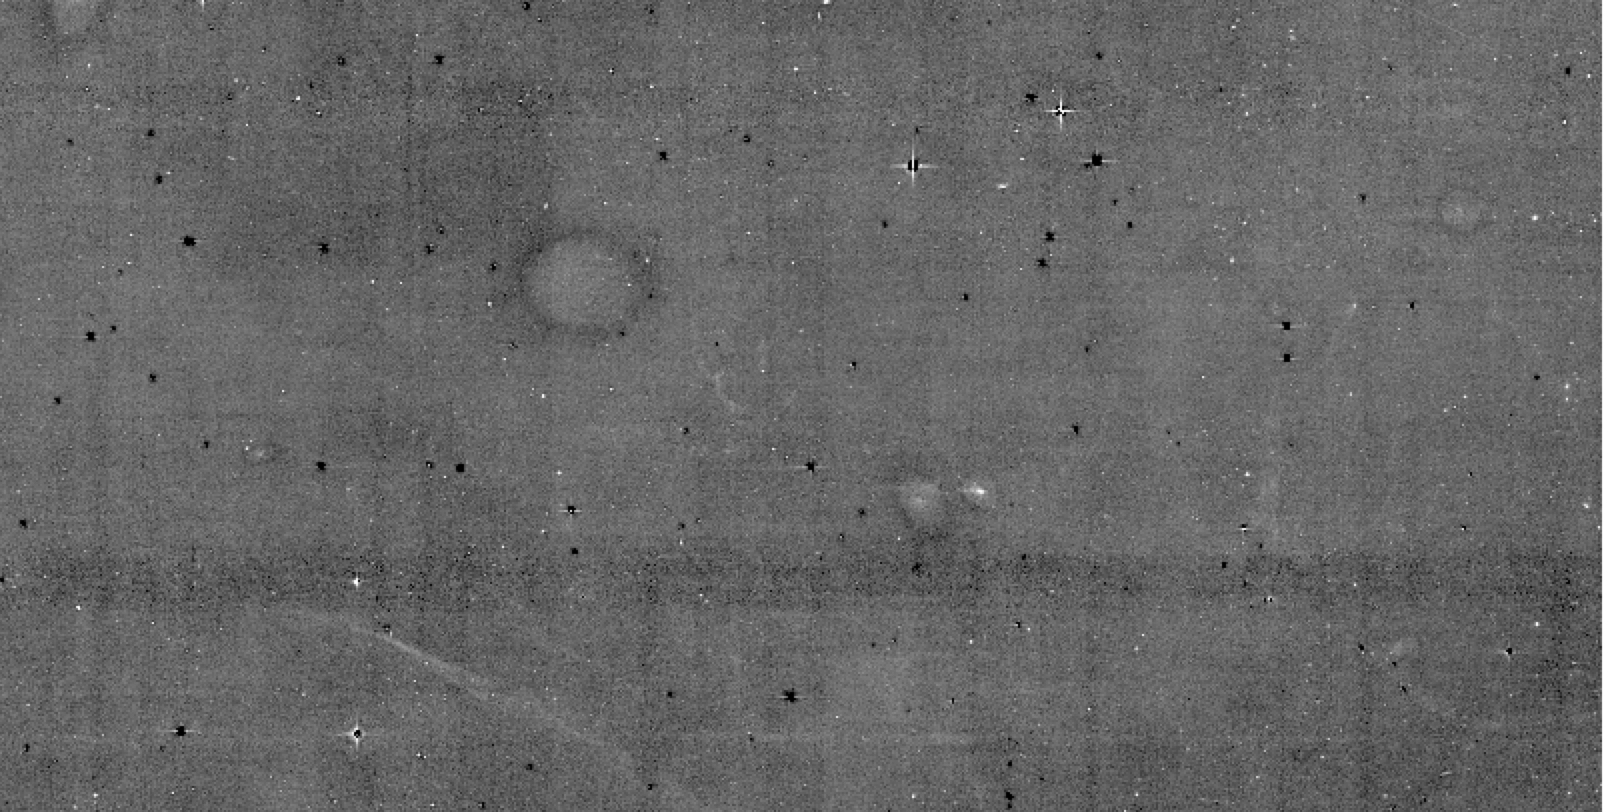Halpha: (239, 591, 696, 794), (1312, 611, 1597, 757), (607, 350, 814, 470), (1221, 374, 1310, 571)
